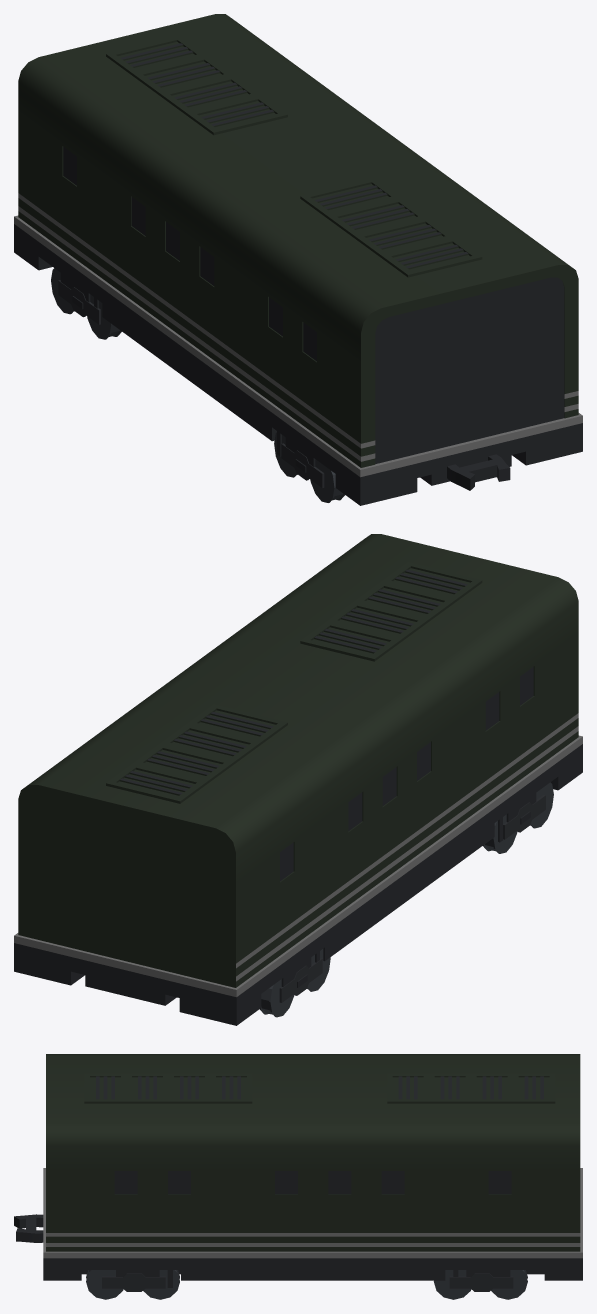
Rendered from Wagon_9.fbx.
The picture shows the model from 3 angles, top to bottom: view 1: azimuth 30°, elevation 25°; view 2: azimuth 150°, elevation 25°; view 3: azimuth 270°, elevation 25°; orthographic projection. The views are drawn at different scales.
Visible parts, largest first — view 1: Wagon_9; view 2: Wagon_9; view 3: Wagon_9.
Part boxes in pixels (x1=…): Wagon_9: x1=14, y1=14, x2=582, y2=505; Wagon_9: x1=14, y1=534, x2=582, y2=1025; Wagon_9: x1=14, y1=1054, x2=582, y2=1299.
Bounding box in the file's own units: 227 × 211 × 637.
